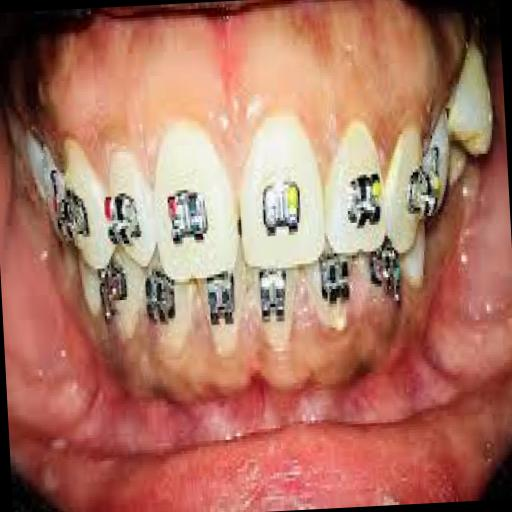correct_brace: (254, 169, 308, 244), (164, 186, 212, 256), (340, 164, 386, 234), (103, 187, 142, 250)
incorrect_brace: (318, 114, 390, 260), (100, 122, 158, 271)
